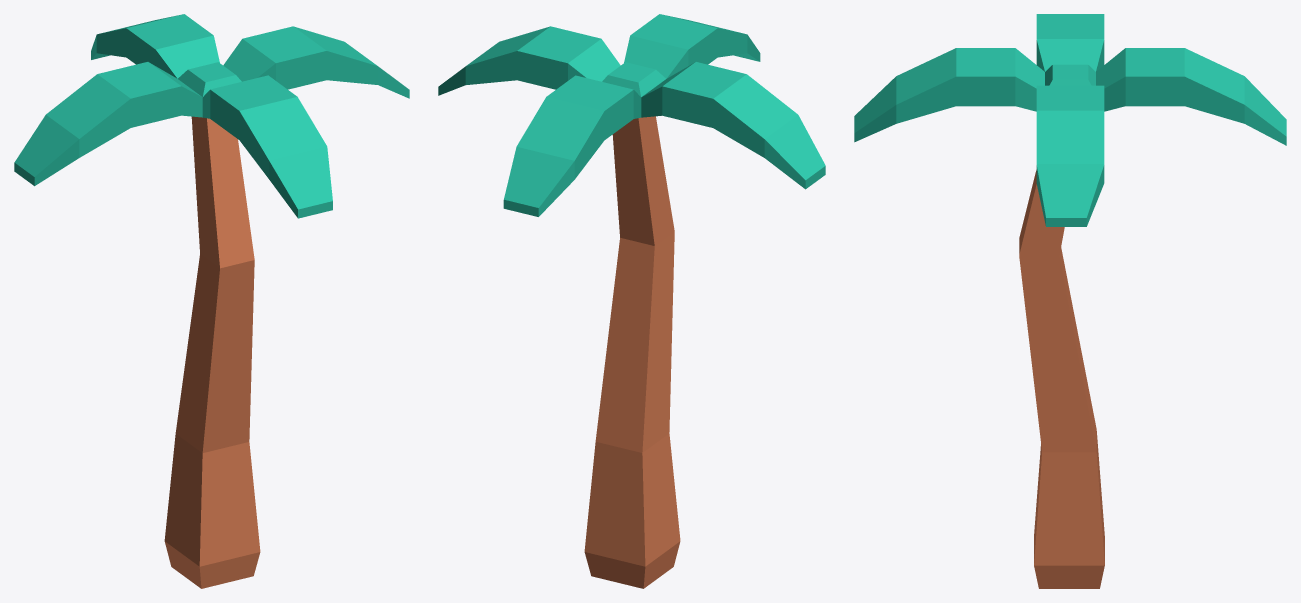
Rendered from tree_palmTall.dae.
3 views of the same model, side by side, from view 1: azimuth 30°, elevation 25°; view 2: azimuth 150°, elevation 25°; view 3: azimuth 270°, elevation 25° (orthographic).
Visible parts, largest first — view 1: tree_palmTall; view 2: tree_palmTall; view 3: tree_palmTall.
Boxes of the visible parts, x1,y1,x2,y2 form: tree_palmTall: [14, 14, 409, 588]; tree_palmTall: [438, 14, 825, 588]; tree_palmTall: [854, 14, 1286, 588].
Size of the model in its own units: 1.03 by 1.36 by 1.03.
